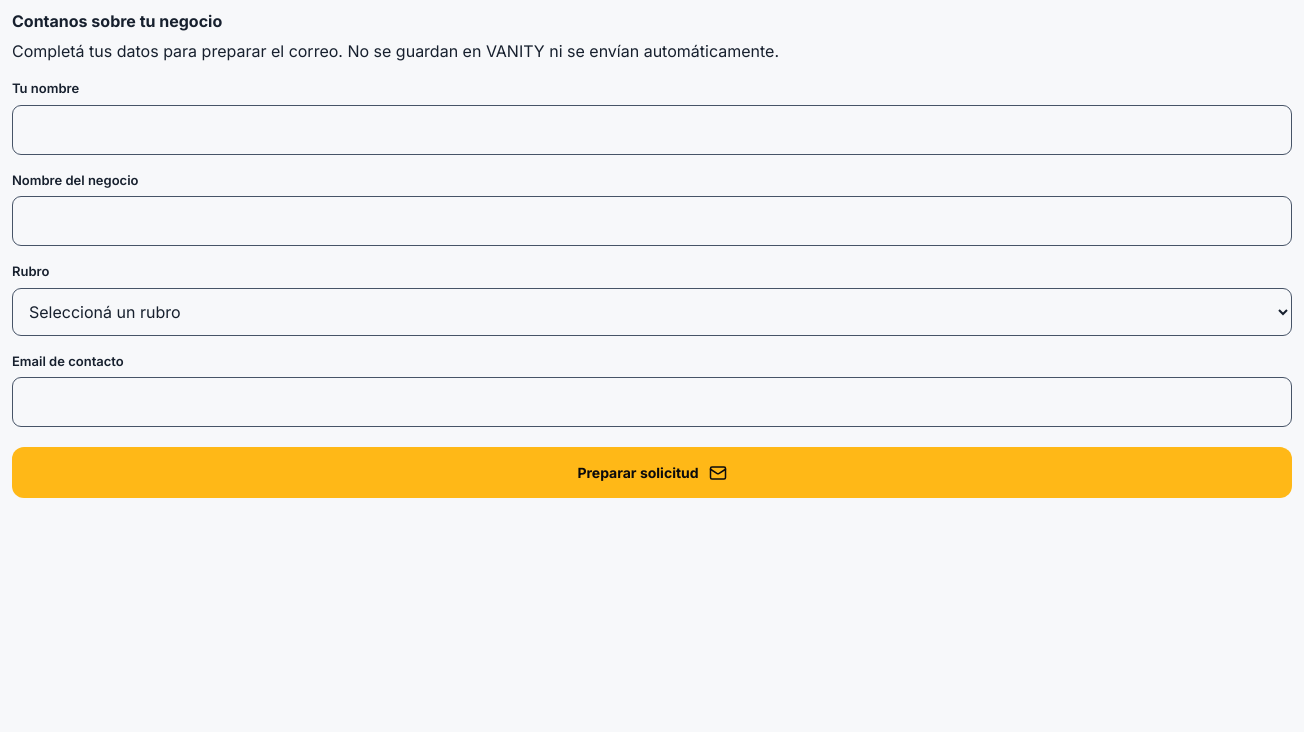
Solicitud de negocio por correo › rechaza un email inválido aunque los demás campos estén completos
Type "Ana" into the field labelled "Tu nombre" at (652, 130), box [12, 105, 1292, 155]
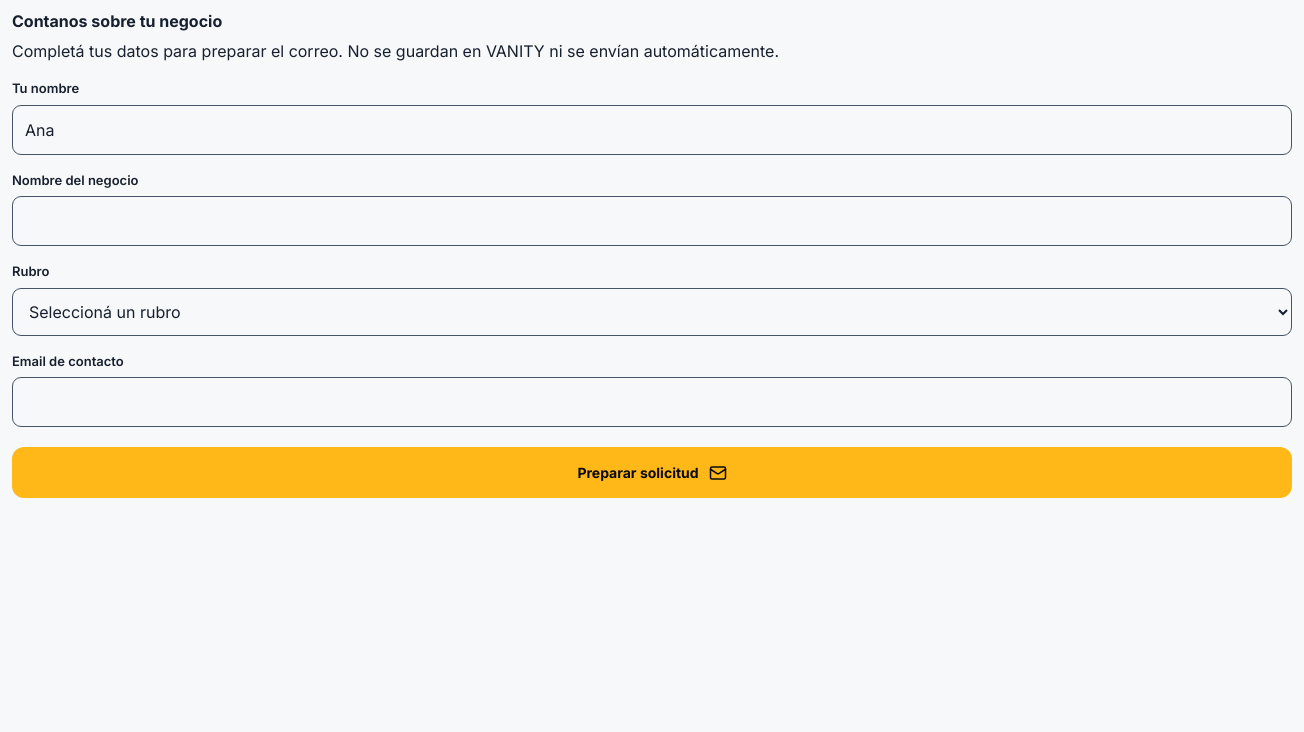
Type "Salón" into the field labelled "Nombre del negocio" at (652, 221), box [12, 196, 1292, 246]
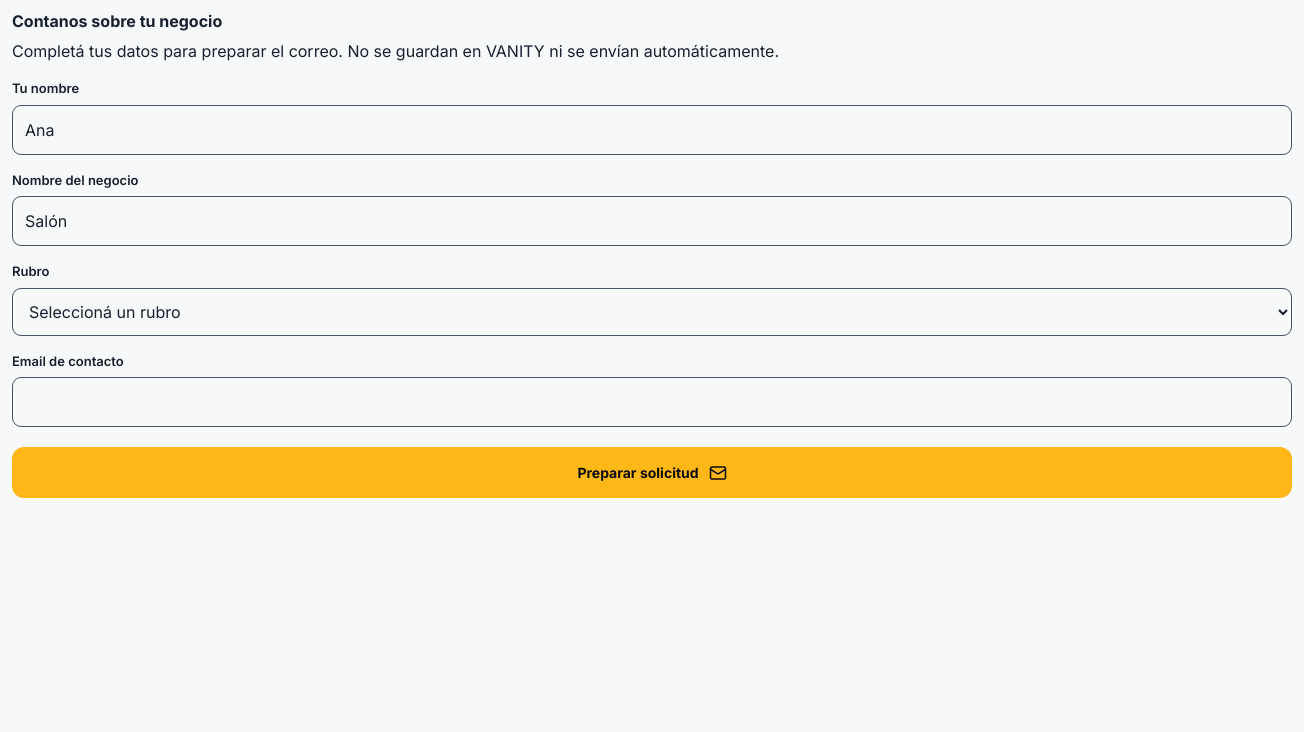
Select "Spa" in the dropdown labelled "Rubro" at (652, 312), box [12, 288, 1292, 336]
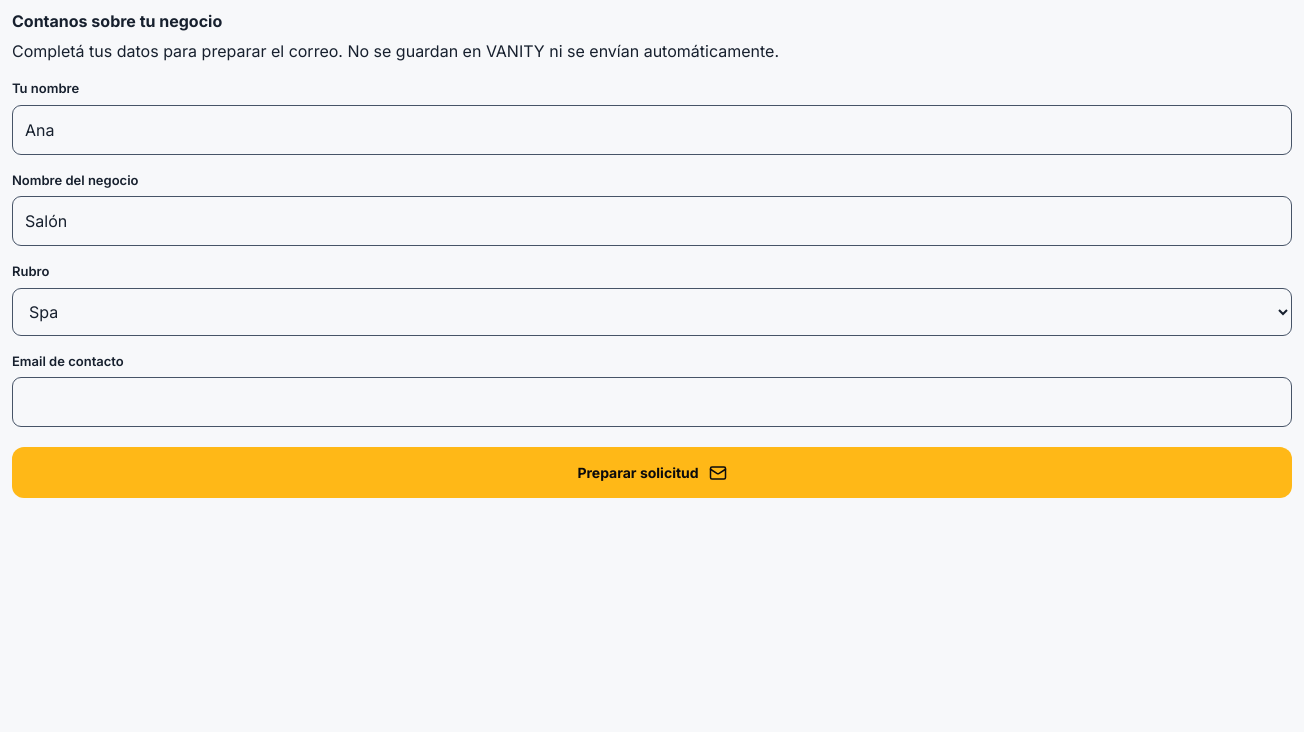
Type "correo-invalido" into the field labelled "Email de contacto" at (652, 402), box [12, 377, 1292, 427]
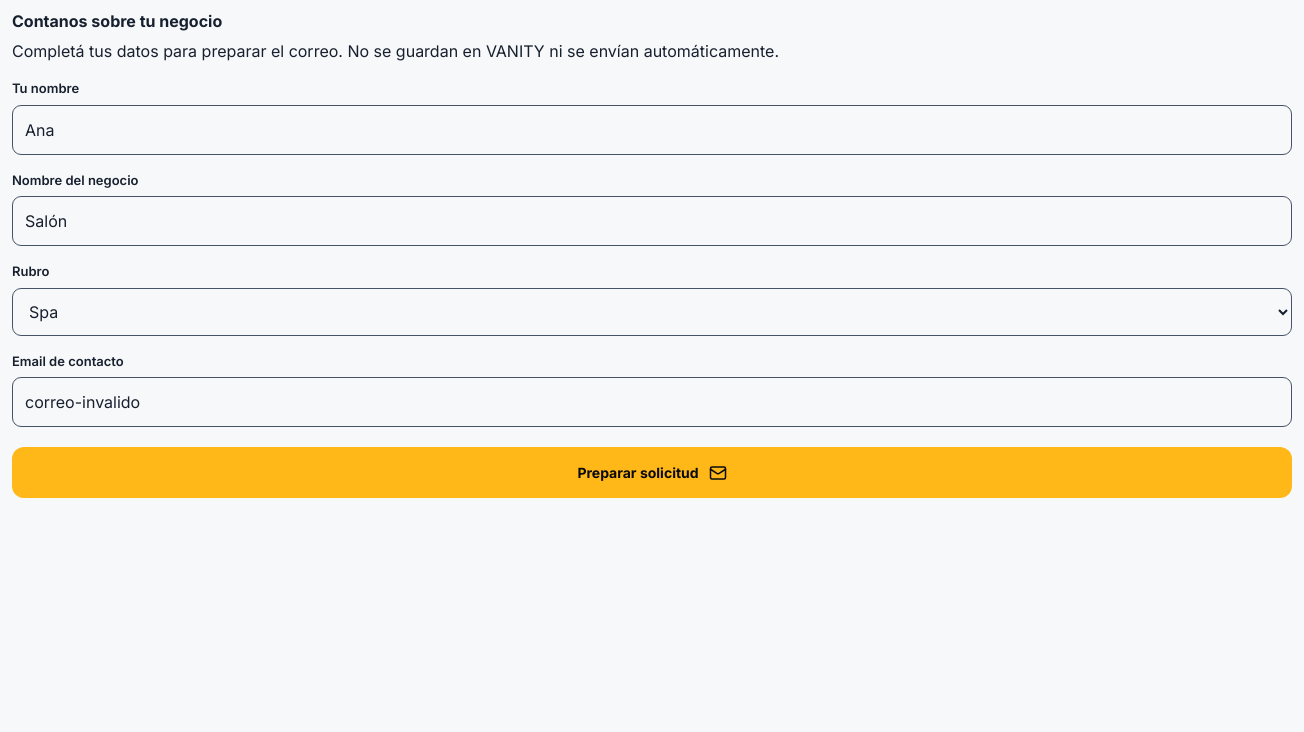
Submit the form named "Solicitud de alta"
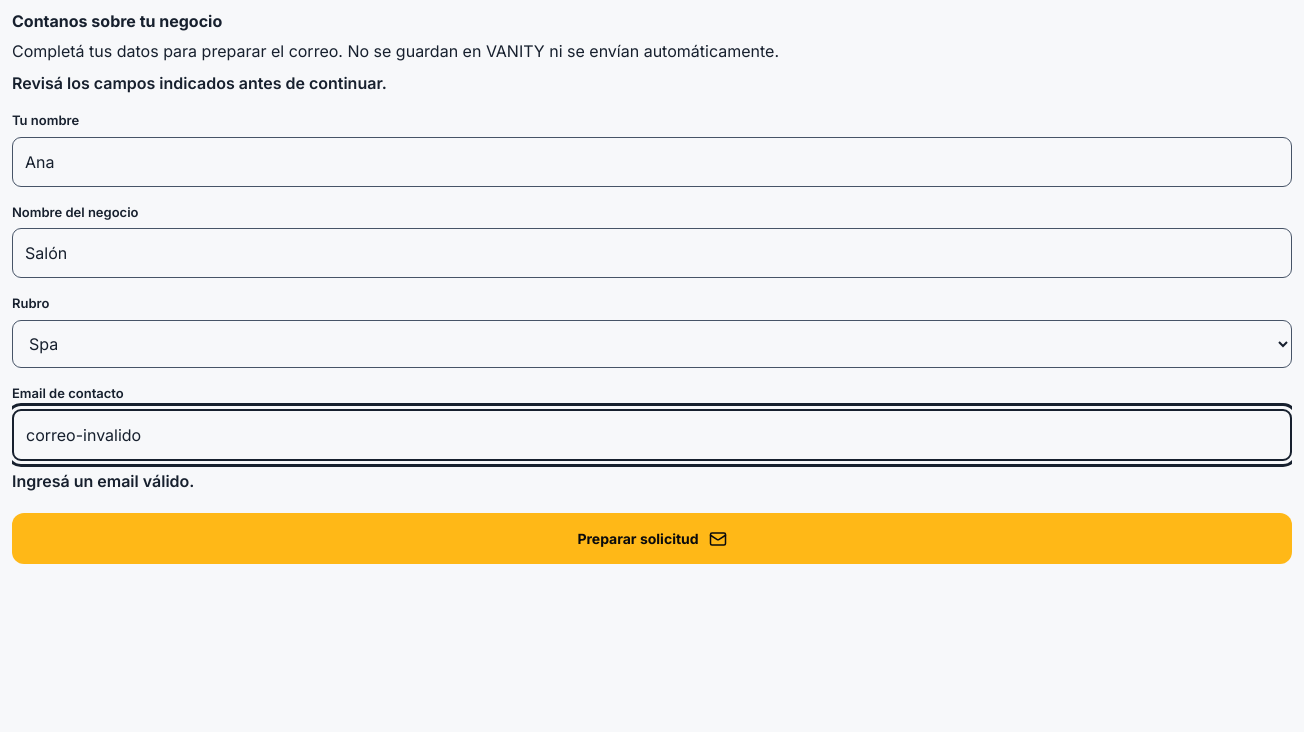
Expected: the text "Ingresá un email válido." is shown, [12, 471, 194, 491]
